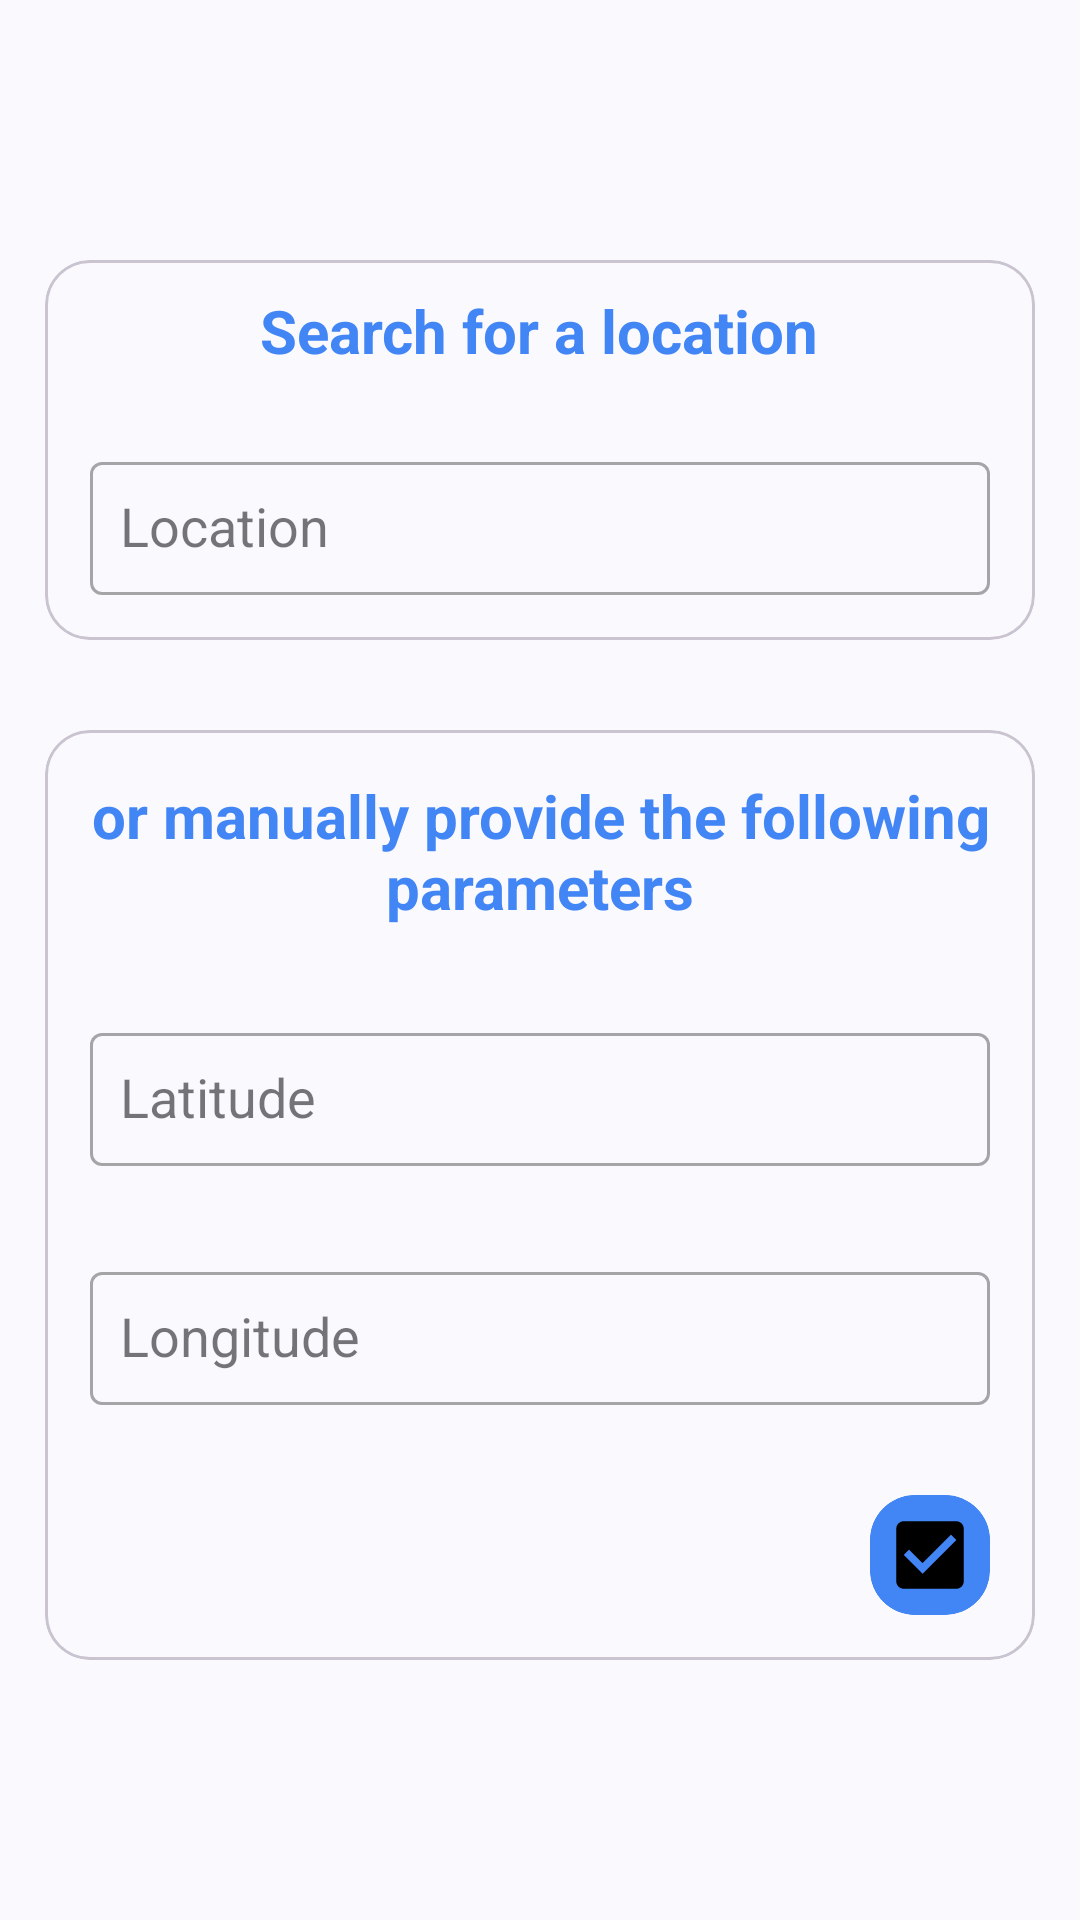

Where icons sit on this 1080w x 1920h app screen, as (x1, y1, x2, y2):
select: (896, 1521, 964, 1589)
